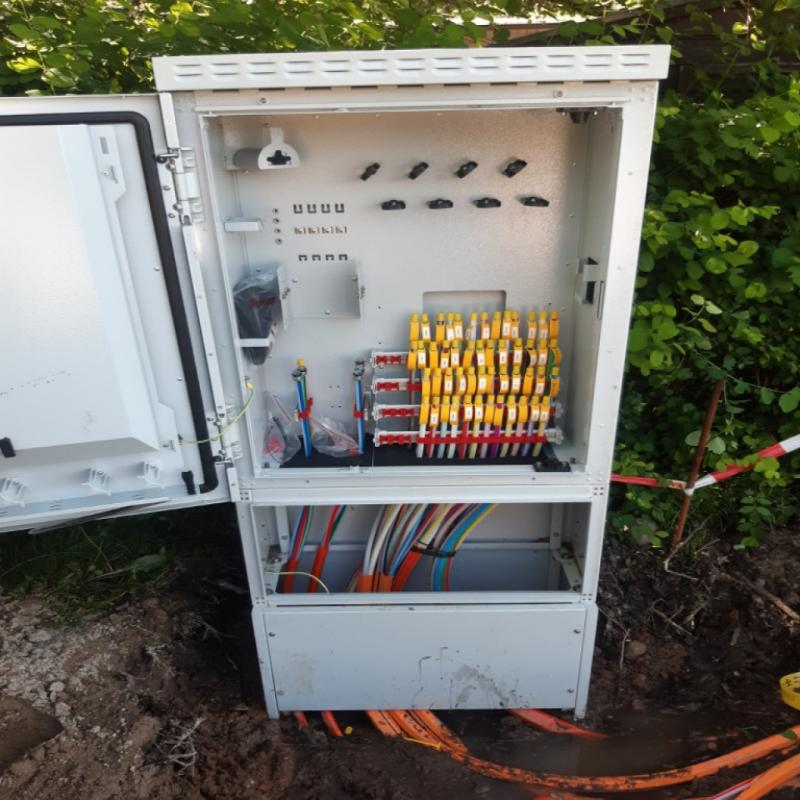NT-Gehause: (0, 46, 669, 711)
Orang-Speednetrohrchen: (375, 712, 800, 800)
